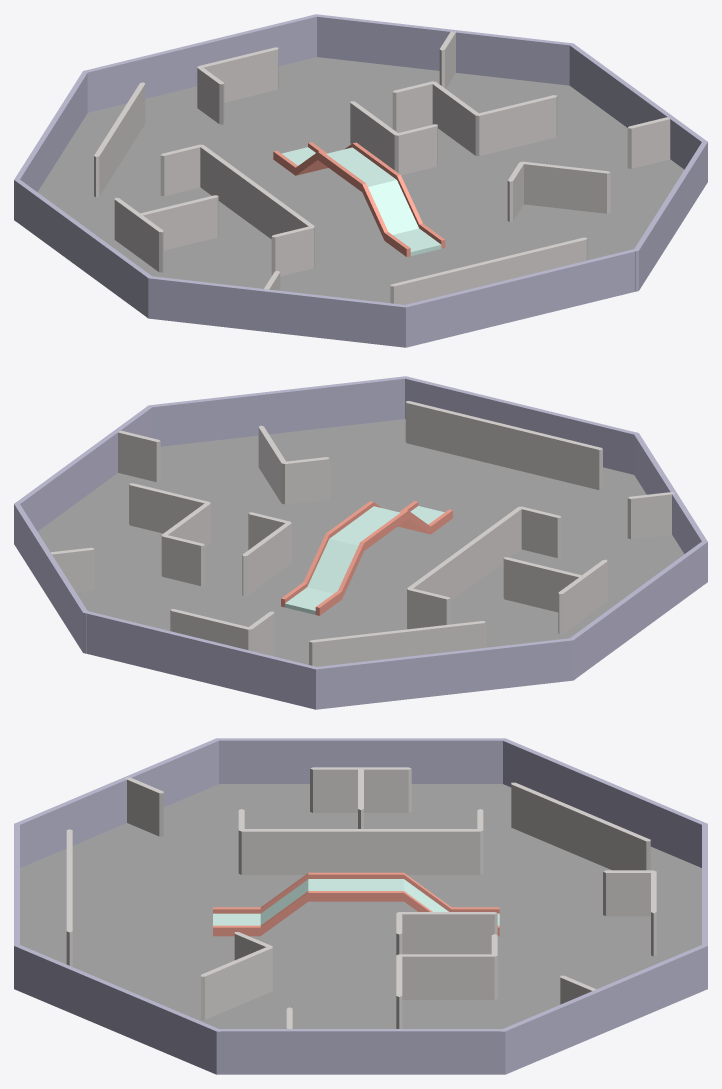
The model's file is Level3.fbx.
3 views of the same model, one above another, from view 1: azimuth 30°, elevation 25°; view 2: azimuth 150°, elevation 25°; view 3: azimuth 270°, elevation 25° (orthographic). The views are drawn at different scales.
Parts seen in each view (by area): view 1: wall (×80), pPlane1, straight (×4), wall_corner, slope_straightD; view 2: wall (×78), pPlane1, straight (×4), wall_corner, slope_straightD; view 3: wall (×55), pPlane1, straight (×3), slope_straightD (×2), wall_corner.
Part boxes in pixels (<box>): wall (×80): <box>15,14,707,347</box>; pPlane1: <box>37,57,684,303</box>; straight (×4): <box>273,142,445,256</box>; wall_corner: <box>507,161,564,221</box>; slope_straightD: <box>362,175,422,240</box>; wall (×78): <box>14,376,706,709</box>; pPlane1: <box>37,419,684,664</box>; straight (×4): <box>281,501,452,615</box>; wall_corner: <box>270,444,329,504</box>; slope_straightD: <box>303,534,363,598</box>; wall (×55): <box>14,738,707,1074</box>; pPlane1: <box>20,784,701,1028</box>; straight (×3): <box>213,872,403,936</box>; slope_straightD (×2): <box>260,873,451,935</box>; wall_corner: <box>234,932,272,1005</box>.
Bounding box in the file's own units: 1453 × 100 × 1453.
